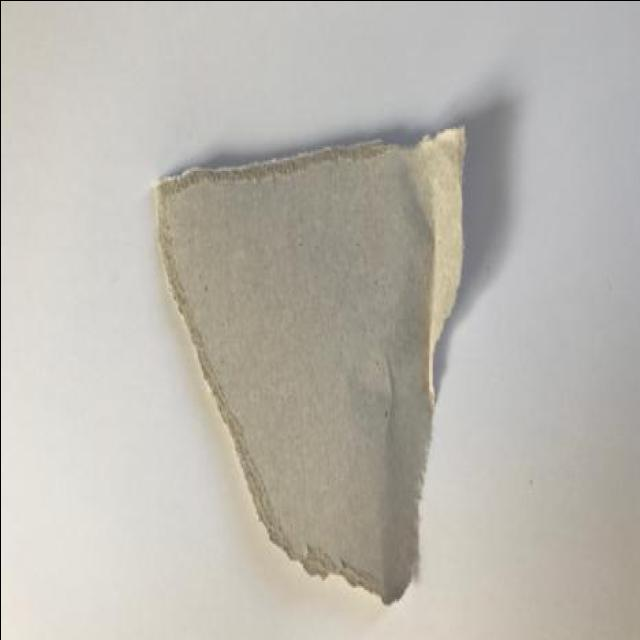kertas: (150, 119, 463, 610)
